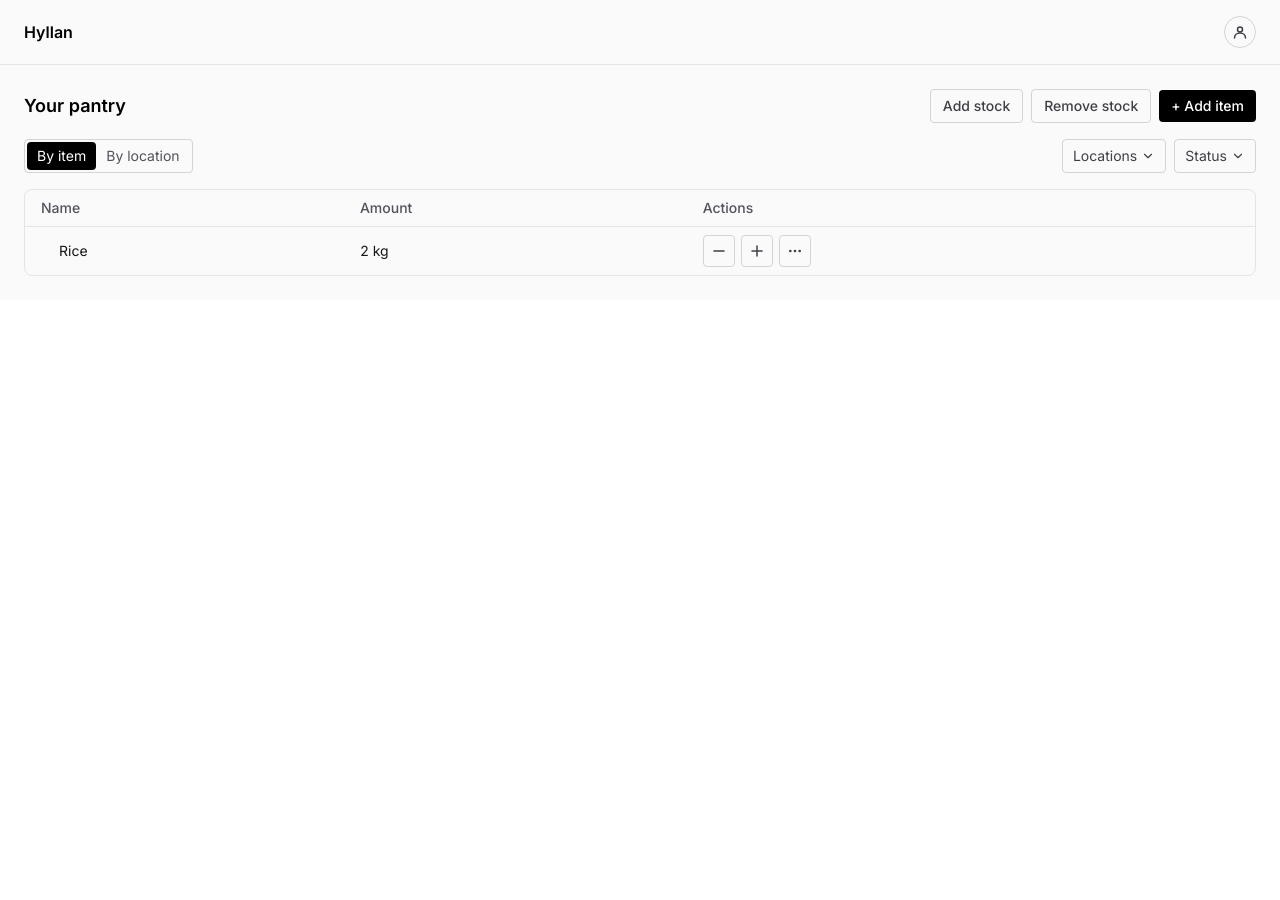
Scenario: SignedInHome › closes the delete confirmation dialog without deleting anything when canceled
Click the button named "Actions for Rice": (795, 251) [779, 235, 811, 267]
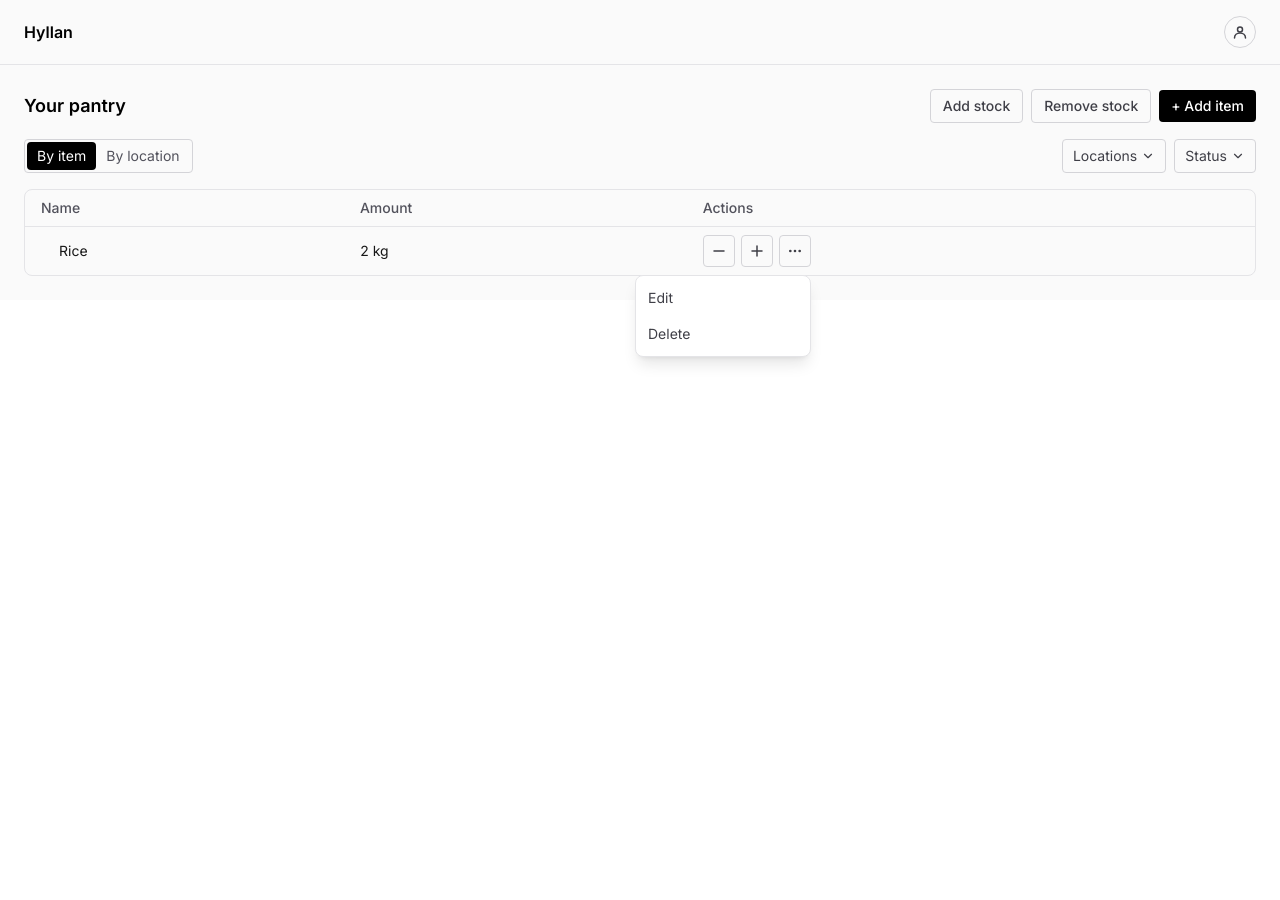
Click the menu item "Delete": (723, 334) [636, 316, 810, 352]
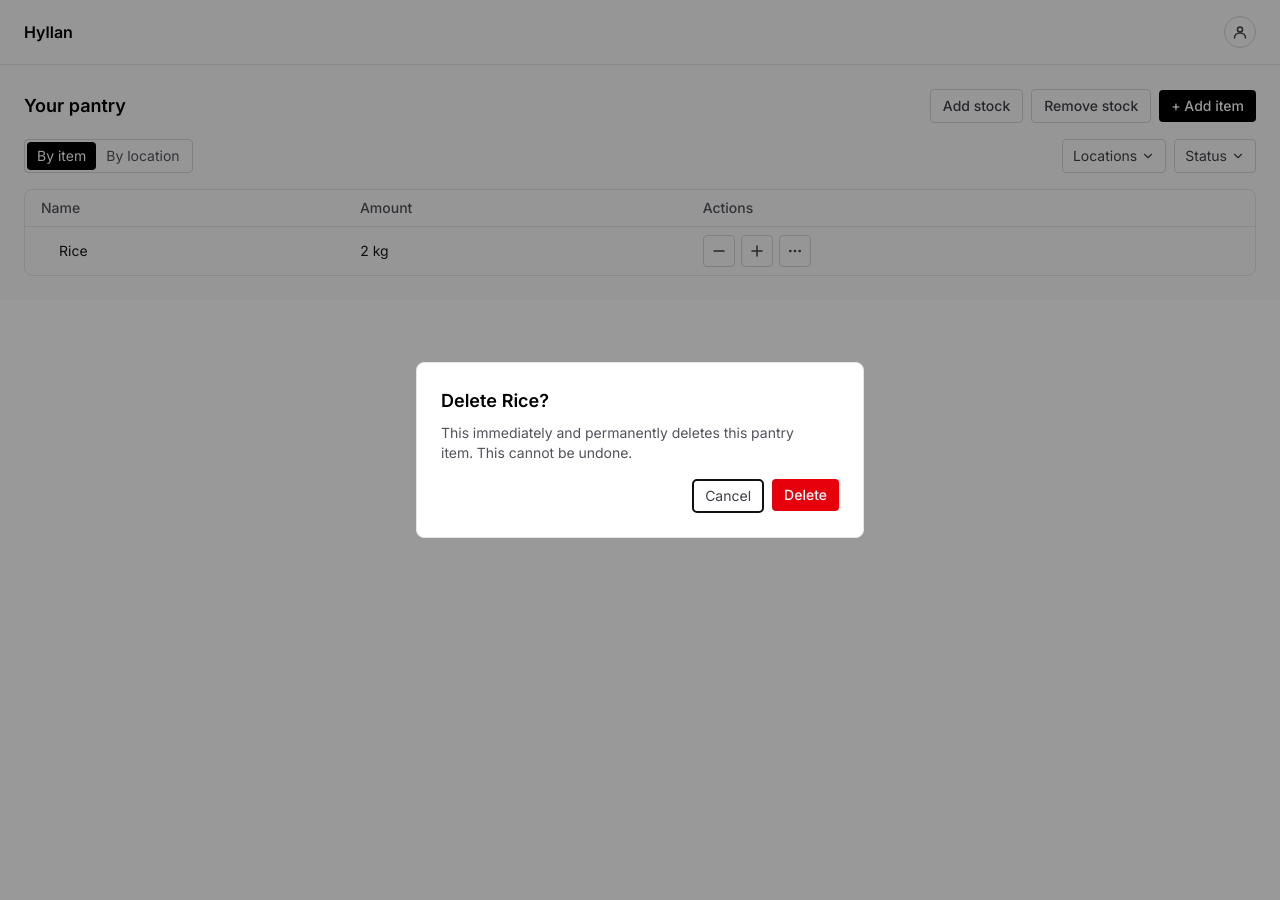
Click the button "Cancel": (728, 496) [692, 479, 764, 513]
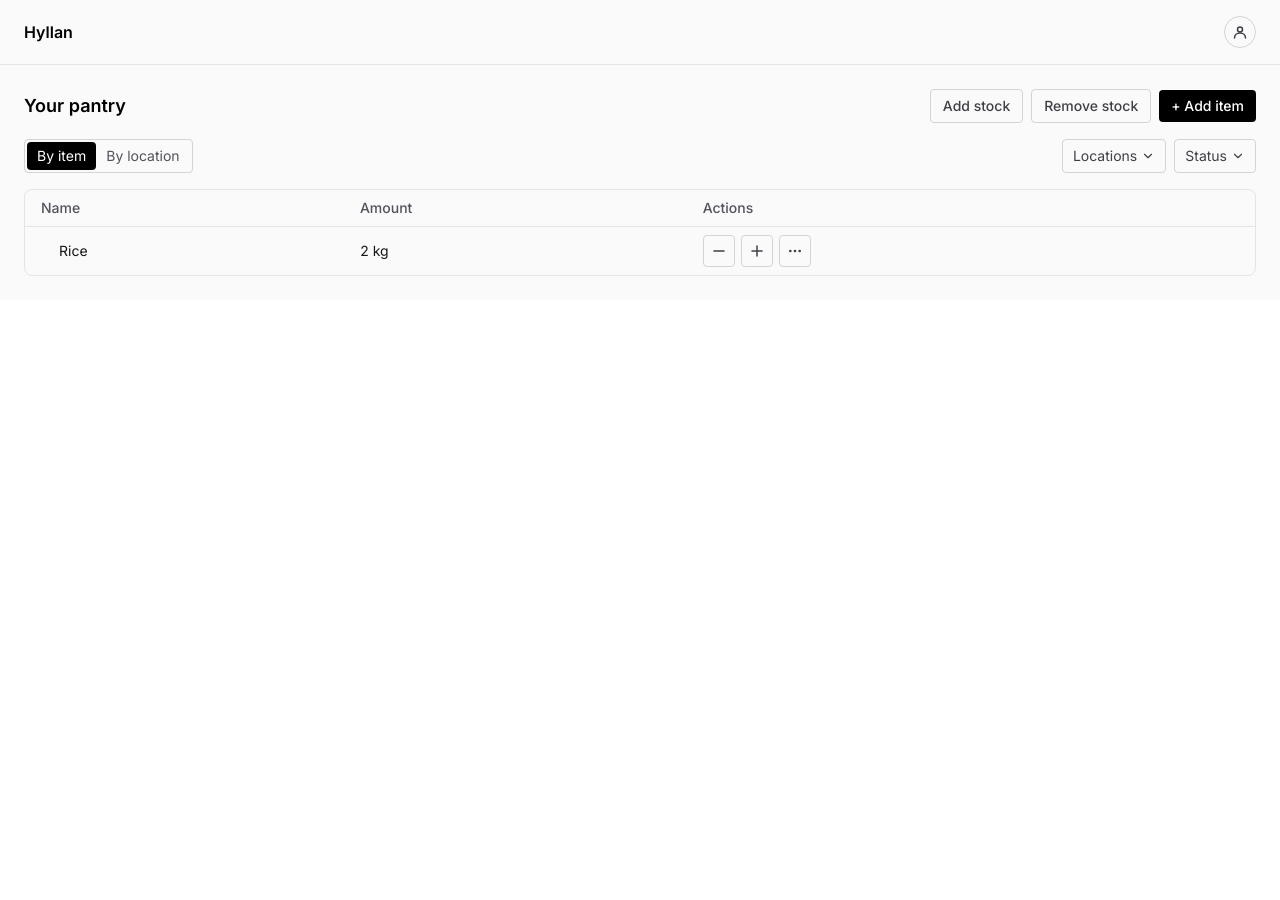
Expected: the heading "Delete Rice?" is gone
